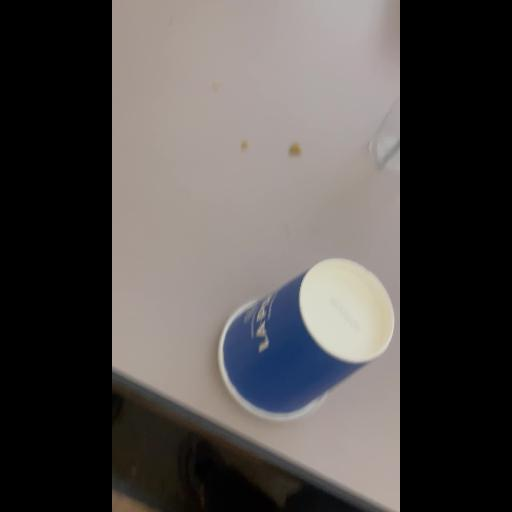lp_paper_cup: (202, 258, 400, 422)
